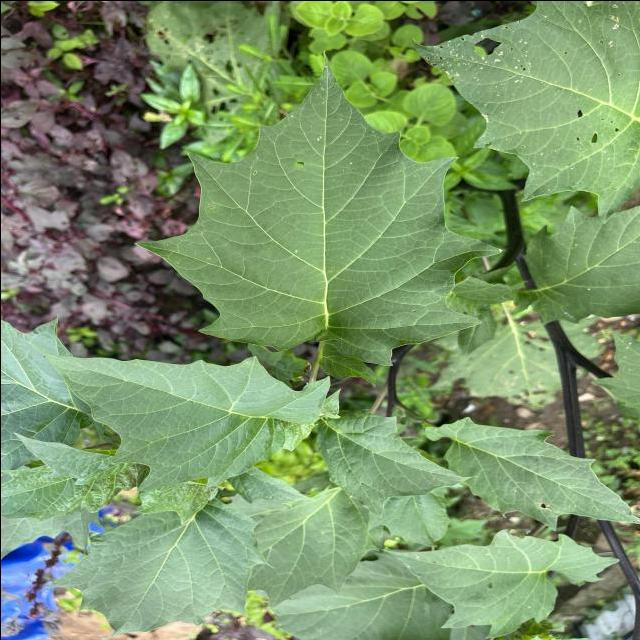Datura metal linn: (128, 45, 507, 368), (19, 334, 333, 496), (42, 504, 278, 640), (419, 412, 640, 534), (316, 408, 482, 519)
